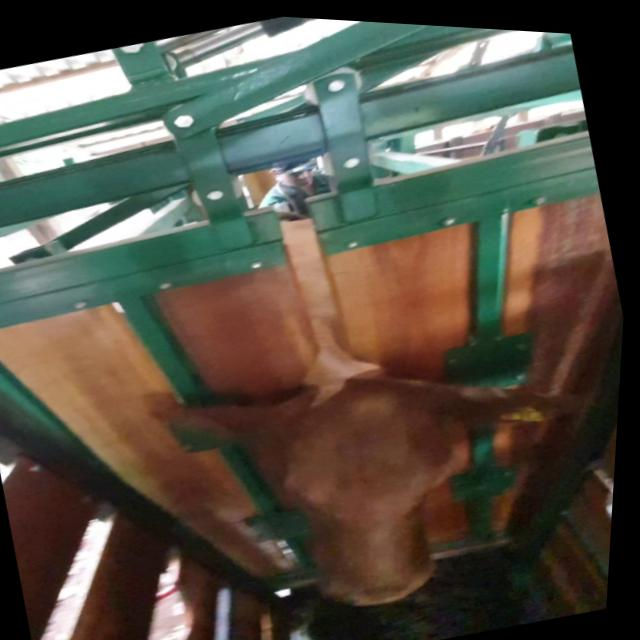cowFace: (268, 355, 500, 619)
